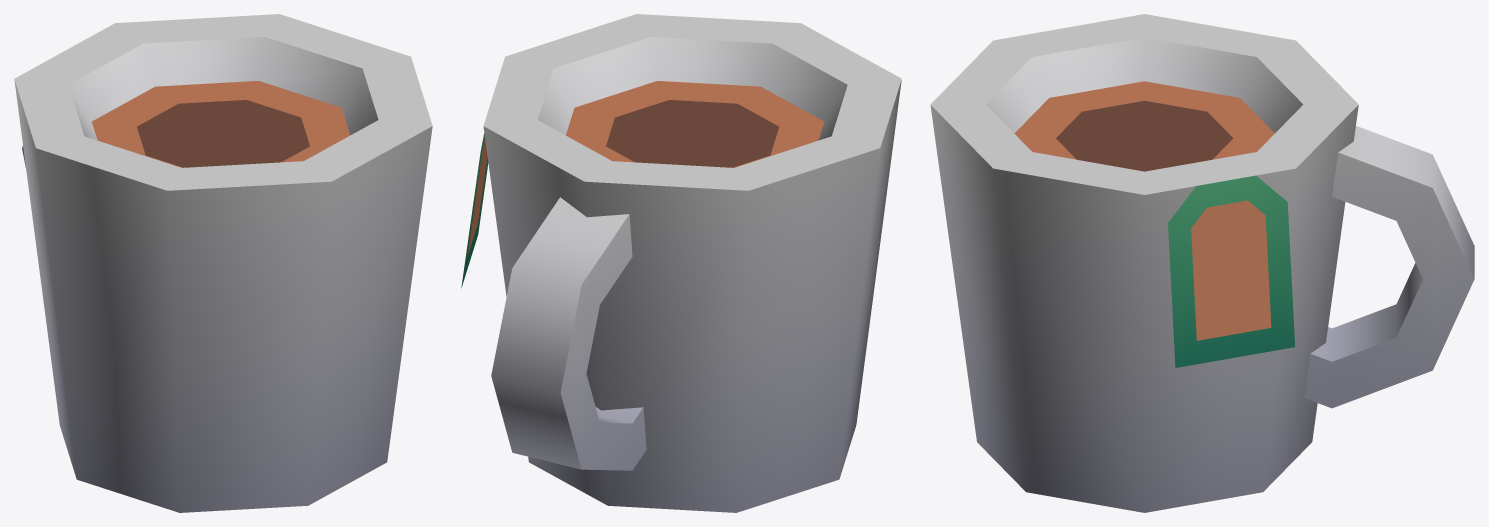
File: cupTea.glb
3 renders of one model, left to right at view 1: azimuth 30°, elevation 25°; view 2: azimuth 150°, elevation 25°; view 3: azimuth 270°, elevation 25°, orthographic.
Parts seen in each view (by area): view 1: cup-tea-2; view 2: cup-tea-2; view 3: cup-tea-2.
Part boxes in pixels (box(x1,y1,x2,y2)): cup-tea-2: box(14, 14, 432, 512); cup-tea-2: box(461, 14, 901, 512); cup-tea-2: box(930, 14, 1474, 512).
Bounding box in the file's own units: 0.2369 × 0.2 × 0.2921.
